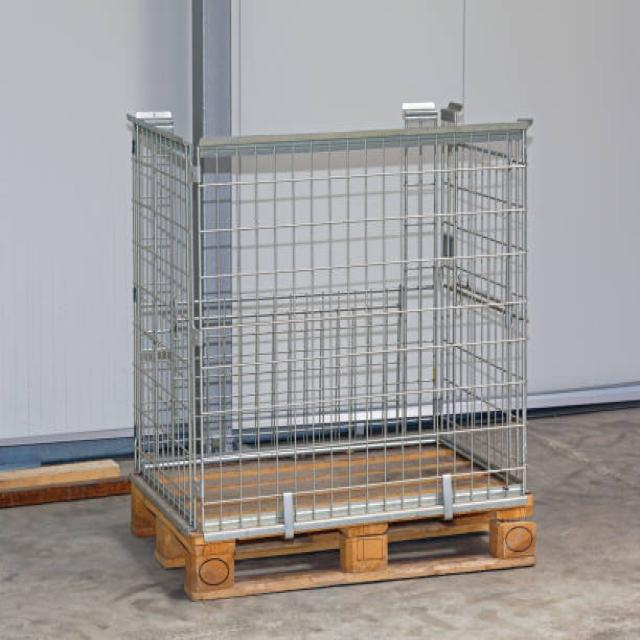Wooden-Pallets: (127, 487, 541, 607)
